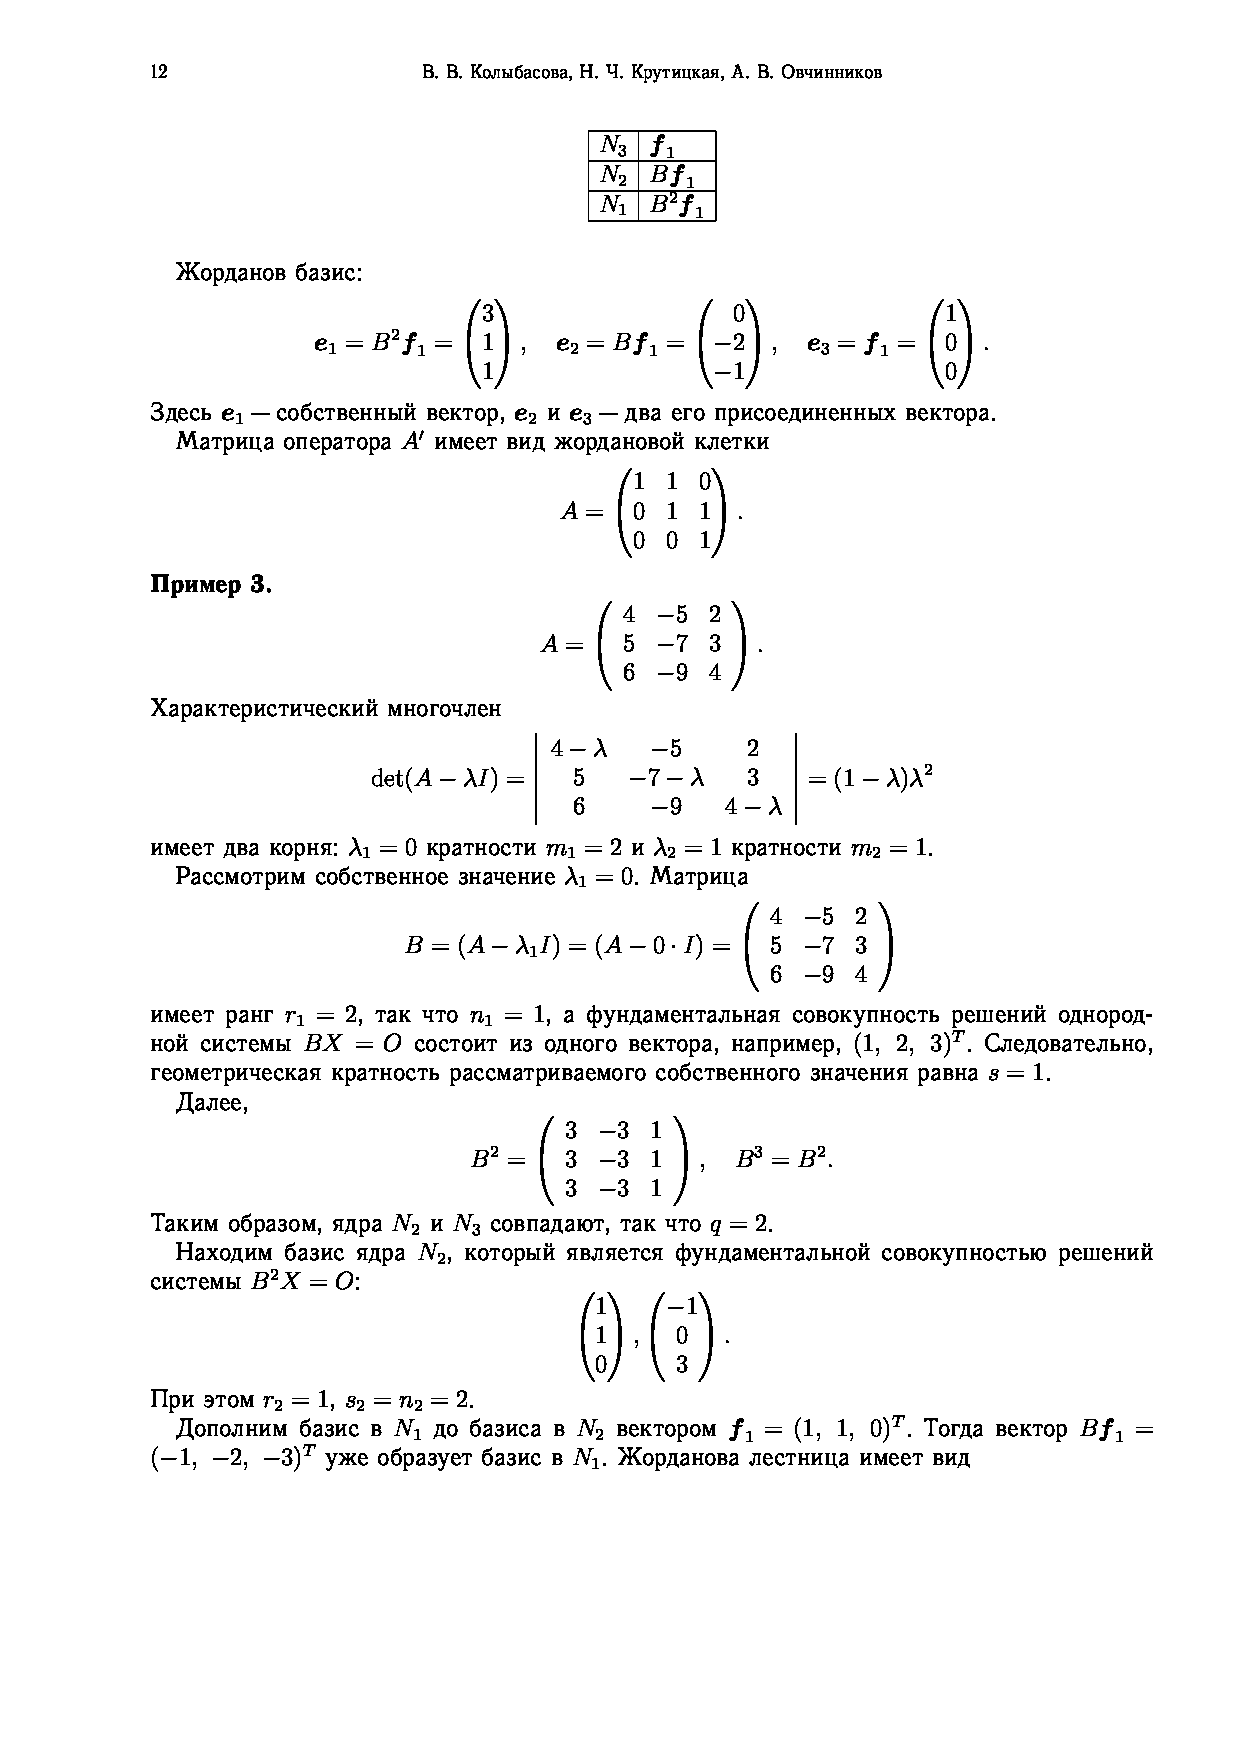lMatrix: (535, 726, 800, 831)
pMatrix: (599, 595, 750, 698), (742, 900, 896, 1000), (539, 1113, 691, 1209), (619, 464, 726, 566), (695, 293, 760, 396), (651, 1290, 715, 1389), (462, 298, 513, 396), (929, 295, 977, 393), (580, 1291, 625, 1380)
